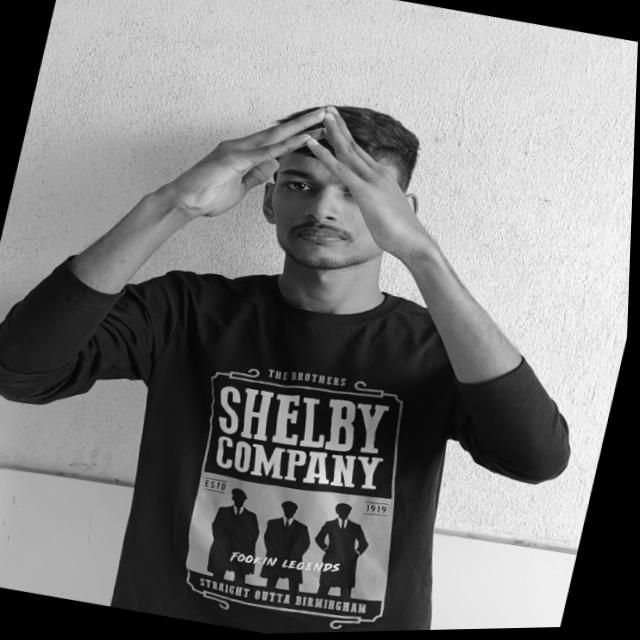Home: (176, 81, 449, 258)
